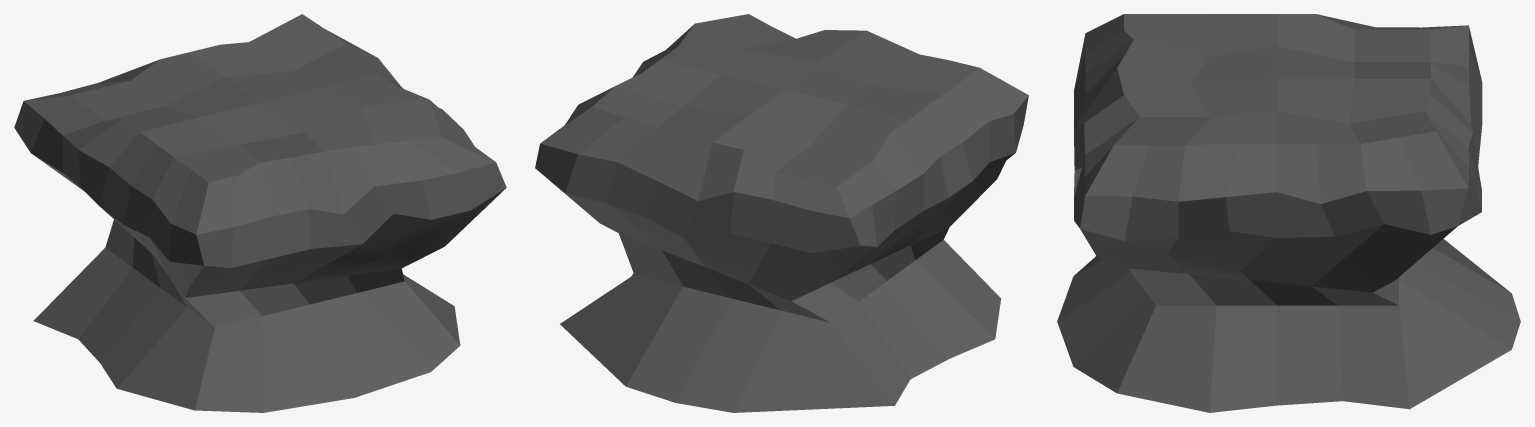
File: pedestalrock.fbx
3 renders of one model, left to right at view 1: azimuth 30°, elevation 25°; view 2: azimuth 150°, elevation 25°; view 3: azimuth 270°, elevation 25°, orthographic. The views are drawn at different scales.
Parts seen in each view (by area): view 1: pCube1; view 2: pCube1; view 3: pCube1.
Boxes of the visible parts, x1=… form: pCube1: x1=14, y1=14, x2=506, y2=412; pCube1: x1=535, y1=14, x2=1028, y2=412; pCube1: x1=1057, y1=14, x2=1520, y2=412.
Bounding box in the file's own units: 1.78 × 1.16 × 1.91.
1 material, 1 textured.
